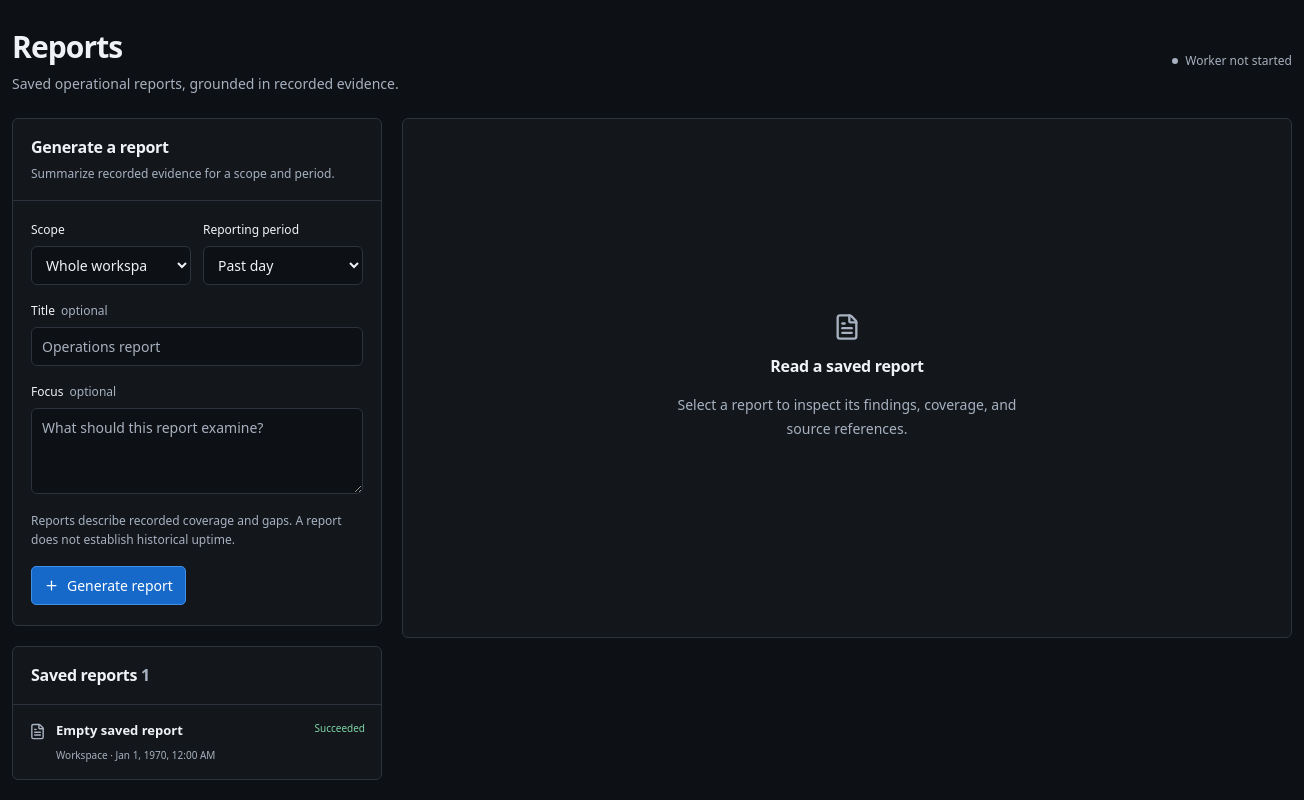
Test: persistent Studio interfaces › reports empty content only after a successful full report read explicitly returns it
The image size is (1304, 800).
Click the button "Empty saved report". click: (119, 730)
box: [13,705,381,779]
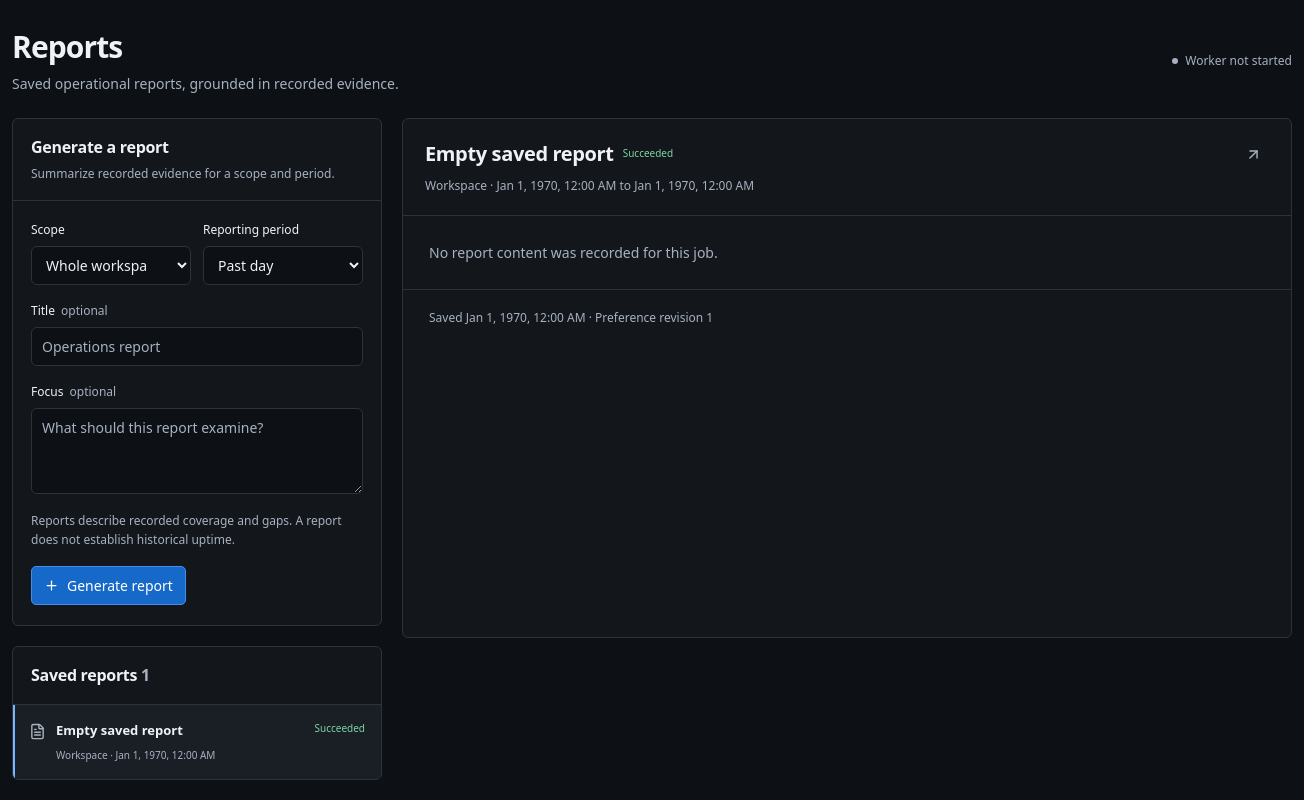
Now the text "No report content was recorded for this job." is shown, box [429,243,718,262]
